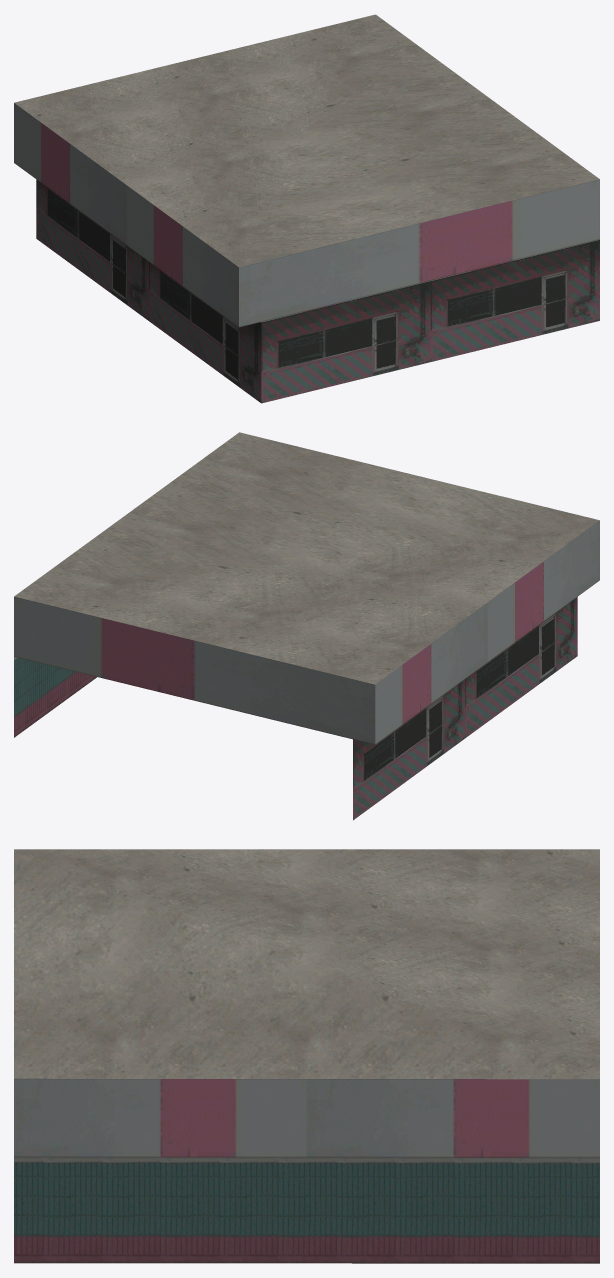
The model's file is genshop01_lvs.obj.
The picture shows the model from 3 angles, top to bottom: view 1: azimuth 30°, elevation 25°; view 2: azimuth 150°, elevation 25°; view 3: azimuth 270°, elevation 25°; orthographic projection. The views are drawn at different scales.
Visible parts, largest first — view 1: genshop01_lvs; view 2: genshop01_lvs; view 3: genshop01_lvs.
Boxes of the visible parts, box(x1,y1,x2,y2) form: genshop01_lvs: box(14, 14, 599, 403); genshop01_lvs: box(14, 432, 599, 820); genshop01_lvs: box(14, 849, 599, 1263).
Bounding box in the file's own units: 16.12 × 6.03 × 17.35.
3 materials, 3 textured.
